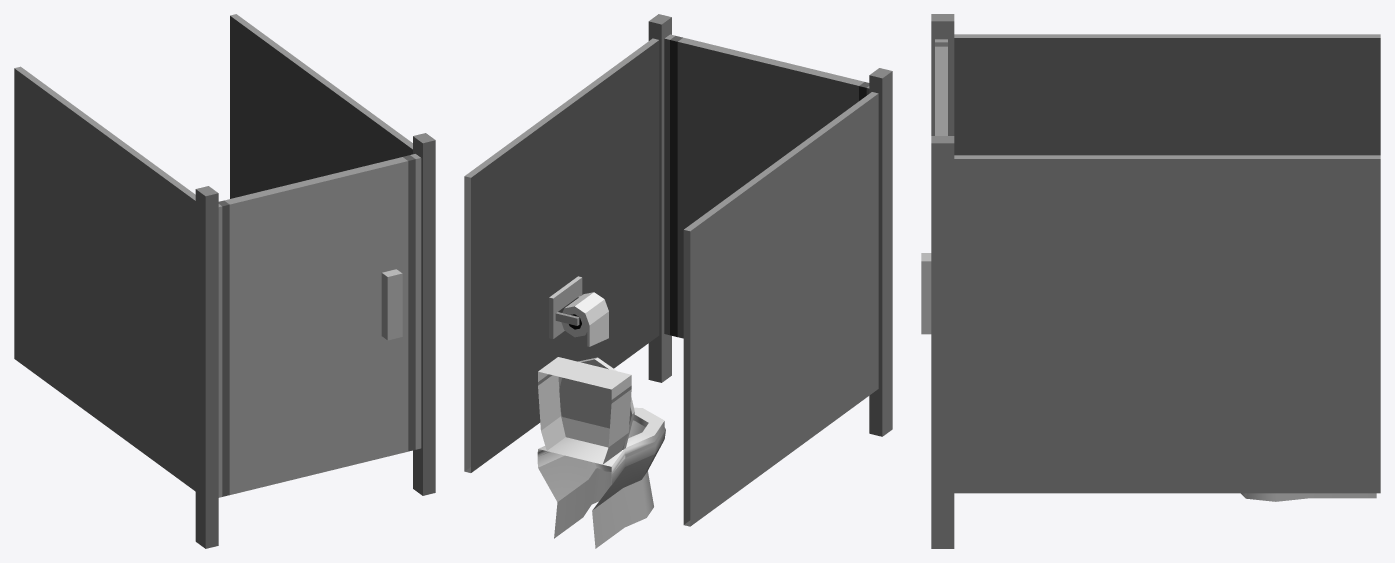
Rendered from SO_ToiletStall_01.fbx.
3 renders of one model, left to right at view 1: azimuth 30°, elevation 25°; view 2: azimuth 150°, elevation 25°; view 3: azimuth 270°, elevation 25°, orthographic. The views are drawn at different scales.
Visible parts, largest first — view 1: SO_ToiletStall_01, SO_Toilet_Door; view 2: SO_ToiletStall_01, SO_Toilet_Door; view 3: SO_ToiletStall_01, SO_Toilet_Door.
Part boxes in pixels (x1,y1,x2,y2): SO_ToiletStall_01: [14, 14, 435, 548]; SO_Toilet_Door: [224, 157, 408, 494]; SO_ToiletStall_01: [464, 14, 892, 548]; SO_Toilet_Door: [677, 37, 864, 338]; SO_ToiletStall_01: [931, 14, 1380, 548]; SO_Toilet_Door: [921, 46, 947, 334].
Size of the model in its own units: 2.57 by 3.76 by 3.86.
